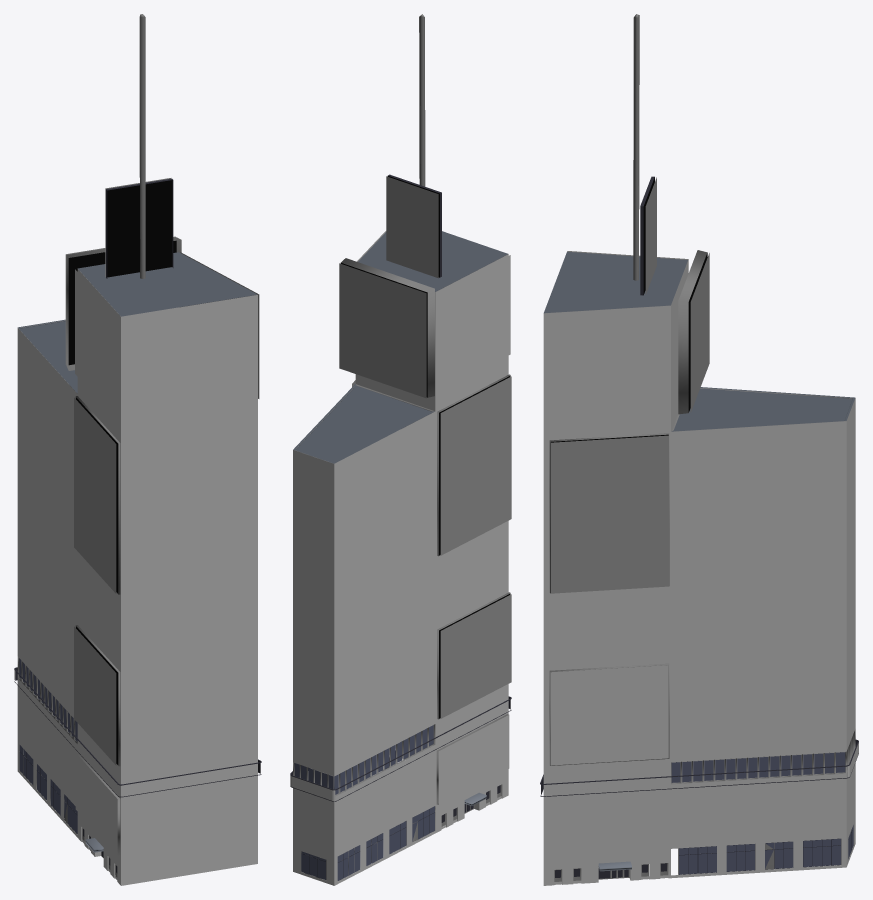
The model's file is building_singleC.fbx.
The picture shows the model from 3 angles, left to right: view 1: azimuth 30°, elevation 25°; view 2: azimuth 150°, elevation 25°; view 3: azimuth 270°, elevation 25°; orthographic projection. The views are drawn at different scales.
Visible parts, largest first — view 1: building_singleC_geo; view 2: building_singleC_geo; view 3: building_singleC_geo.
Boxes of the visible parts, x1,y1,x2,y2 form: building_singleC_geo: (14,14,261,885); building_singleC_geo: (290,14,511,885); building_singleC_geo: (540,14,858,885).
Size of the model in its own units: 2.26 by 13.57 by 4.68.
